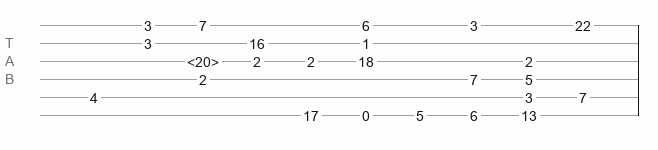0: (362, 108, 370, 118)
1: (362, 36, 370, 46)
13: (521, 108, 537, 118)
16: (249, 36, 265, 46)
17: (303, 108, 319, 118)
18: (358, 54, 374, 64)
2: (199, 72, 207, 82), (253, 54, 261, 64), (307, 54, 315, 64), (525, 54, 533, 64)
22: (575, 18, 591, 28)
3: (144, 18, 152, 28), (144, 36, 152, 46), (470, 18, 478, 28), (525, 90, 533, 100)
4: (90, 90, 98, 100)
5: (416, 108, 424, 118), (525, 72, 533, 82)
6: (362, 18, 370, 28), (470, 108, 478, 118)
7: (199, 18, 207, 28), (470, 72, 478, 82), (579, 90, 587, 100)
harmonic: (187, 54, 219, 64)
